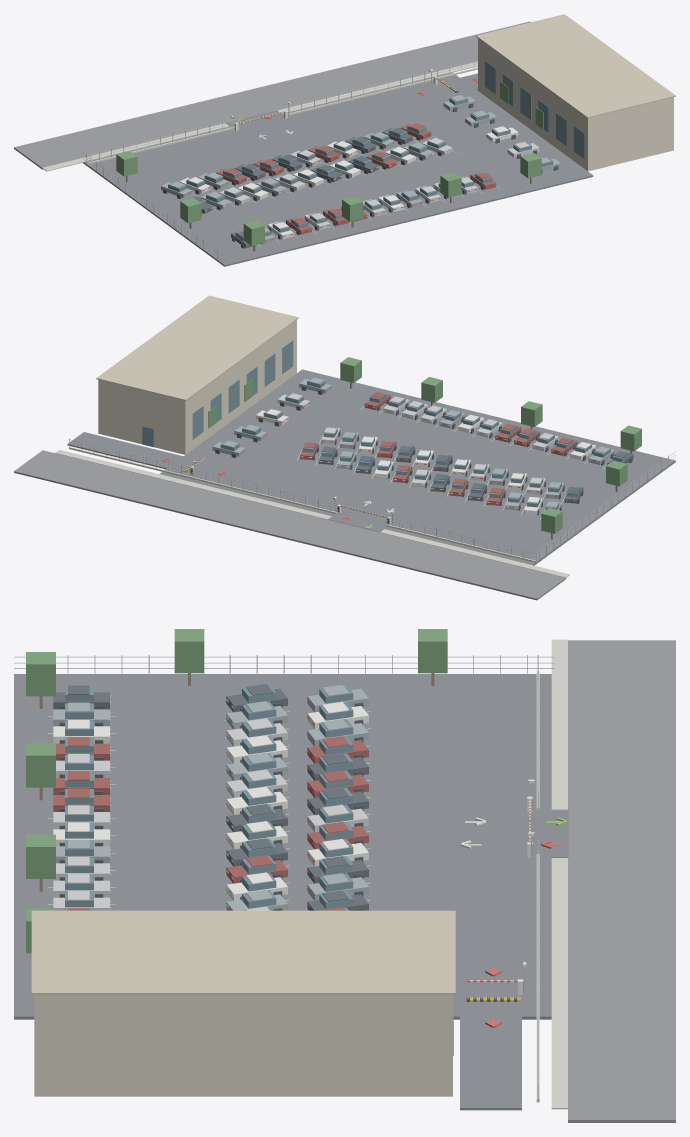
Rendered from aura-otopark.glb.
The picture shows the model from 3 angles, top to bottom: view 1: azimuth 30°, elevation 25°; view 2: azimuth 150°, elevation 25°; view 3: azimuth 270°, elevation 25°; orthographic projection. The views are drawn at different scales.
Parts seen in each view (by area): view 1: Parking asphalt, Front public road, Building roof, Fitness building, Tree foliage (×6), Front sidewalk, Front boundary curb; view 2: Parking asphalt, Front public road, Building roof, Fitness building, Tree foliage (×6), Front sidewalk, Side road continues west, Front boundary curb; view 3: Parking asphalt, Front public road, Fitness building, Building roof, Front sidewalk, Side road continues west, Tree foliage (×5), Right fence rail (×2), Front boundary curb, Main entry flush asphalt.
Part boxes in pixels (x1,y1,x2,y2): Parking asphalt: (83, 72, 593, 266); Front public road: (14, 21, 530, 169); Building roof: (476, 14, 675, 118); Fitness building: (478, 38, 673, 171); Tree foliage (×6): (116, 151, 541, 245); Front sidewalk: (42, 61, 477, 171); Front boundary curb: (283, 67, 477, 116); Parking asphalt: (159, 369, 675, 565); Front public road: (14, 450, 565, 600); Building roof: (96, 295, 298, 400); Fitness building: (98, 320, 296, 454); Tree foliage (×6): (340, 357, 641, 533); Front sidewalk: (55, 450, 569, 577); Side road continues west: (67, 432, 207, 473); Front boundary curb: (69, 447, 337, 514); Parking asphalt: (14, 674, 551, 1019); Front public road: (568, 640, 675, 1122); Fitness building: (34, 995, 452, 1096); Building roof: (31, 910, 455, 994); Front sidewalk: (551, 639, 567, 1109); Side road continues west: (460, 994, 521, 1110); Tree foliage (×5): (26, 629, 447, 878); Right fence rail (×2): (14, 656, 553, 663); Front boundary curb: (536, 854, 539, 1102); Main entry flush asphalt: (551, 809, 568, 857).
Size of the model in its own units: 84 by 8.85 by 49.
